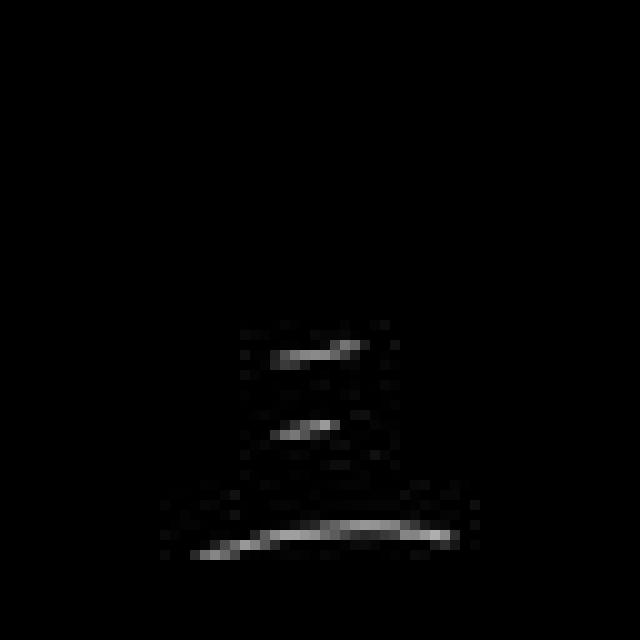3 -three-: (182, 322, 471, 576)
